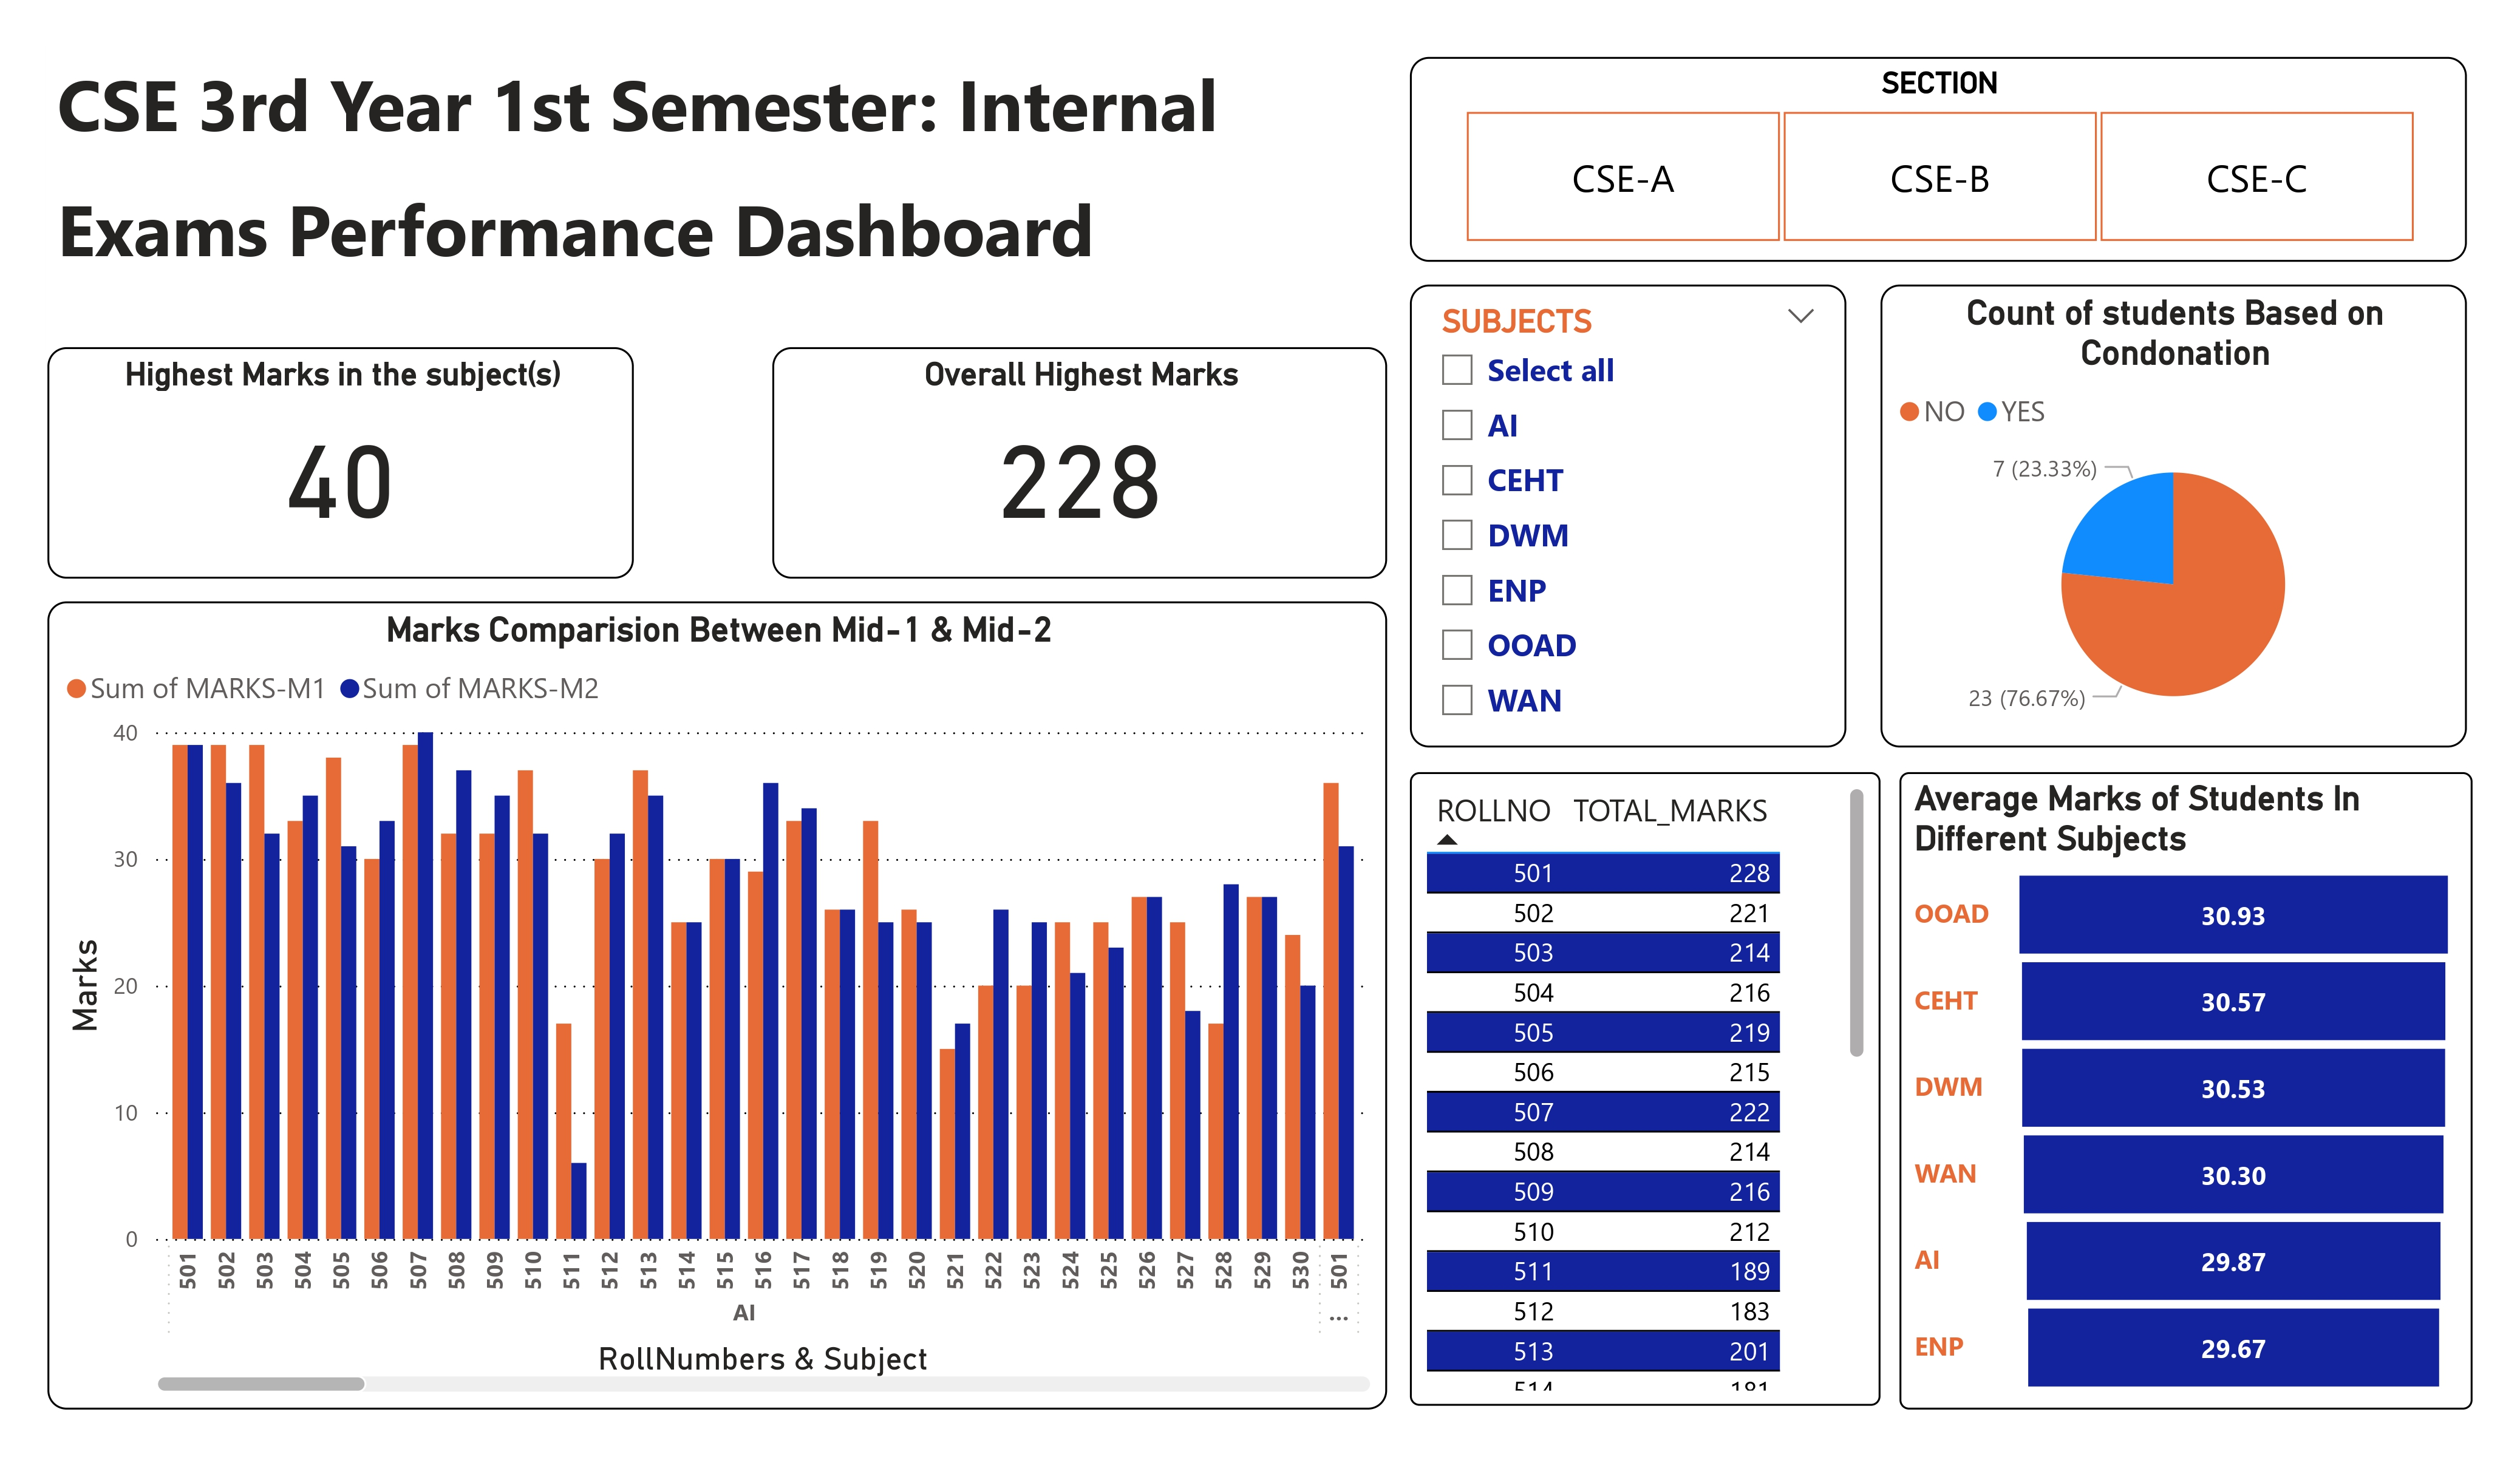

What the dashboard file says about the page in this screenshot:
{"tool":"powerbi","page":{"name":"Page 1","canvas":[1280,720],"ordinal":0},"visuals":[{"type":"clusteredColumnChart","title":"Marks Comparision Between Mid-1 & Mid-2","fields":{"Category":["CSE-Marks.SUBJECTS","CSE-Marks.ROLLNO"],"Y":["Sum(CSE-Marks.MARKS-M1)","Sum(CSE-Marks.MARKS-M2)"]},"box":[1.4,292.9,705.7,425.7],"z":0},{"type":"slicer","title":"SECTION","fields":{"Values":["CSE-attendance.SECTION"]},"box":[718.8,6.2,557.5,107.5],"z":1000},{"type":"slicer","fields":{"Values":["CSE-Marks.SUBJECTS"]},"box":[718.6,125.7,230,244.3],"z":2000},{"type":"funnel","title":"Average Marks of Students In Different Subjects","fields":{"Category":["CSE-subj-avg.SUBJECT"],"Y":["Avg(CSE-subj-avg.AVG_MARKS)"]},"box":[977.1,382.9,301.4,335.7],"z":3000},{"type":"pieChart","title":"Count of students Based on Condonation","fields":{"Category":["CSE-attendance.CONDONATION_STATUS"],"Y":["CountNonNull(CSE-attendance.SECTION)"]},"box":[967.1,125.7,308.6,244.3],"z":4000},{"type":"tableEx","fields":{"Values":["CSE-Marks.ROLLNO","CSE-attendance.TOTAL_MARKS"]},"box":[718.6,382.9,248.6,334.3],"z":5000},{"type":"kpi","title":"Highest Marks in the subject(s)","fields":{"TrendLine":["CSE-Marks.TOTAL-MARKS"],"Indicator":["Max(CSE-Marks.TOTAL-MARKS)"]},"box":[1.4,158.6,308.6,122.9],"z":5001},{"type":"kpi","title":"Overall Highest Marks","fields":{"Indicator":["Max(CSE-attendance.TOTAL_MARKS)"],"TrendLine":["CSE-attendance.TOTAL_MARKS"]},"box":[382.9,158.6,324.3,122.9],"z":5002},{"type":"textbox","box":[1.4,0,705.7,150],"z":5003}]}

Visuals, with their boxes on the page's 1280x720 design canvas (x1, y1, x2, y2). These are canvas units, not pixel positions in the 2520x1457 screenshot, which may show the page scaled, cropped or inside an application window:
"Marks Comparision Between Mid-1 & Mid-2" clusteredColumnChart: [left=1, top=293, right=707, bottom=719]
"SECTION" slicer: [left=719, top=6, right=1276, bottom=114]
slicer - CSE-Marks.SUBJECTS: [left=719, top=126, right=949, bottom=370]
"Average Marks of Students In Different Subjects" funnel: [left=977, top=383, right=1278, bottom=719]
"Count of students Based on Condonation" pieChart: [left=967, top=126, right=1276, bottom=370]
tableEx - CSE-Marks.ROLLNO x CSE-attendance.TOTAL_MARKS: [left=719, top=383, right=967, bottom=717]
"Highest Marks in the subject(s)" kpi: [left=1, top=159, right=310, bottom=282]
"Overall Highest Marks" kpi: [left=383, top=159, right=707, bottom=282]
textbox: [left=1, top=0, right=707, bottom=150]
